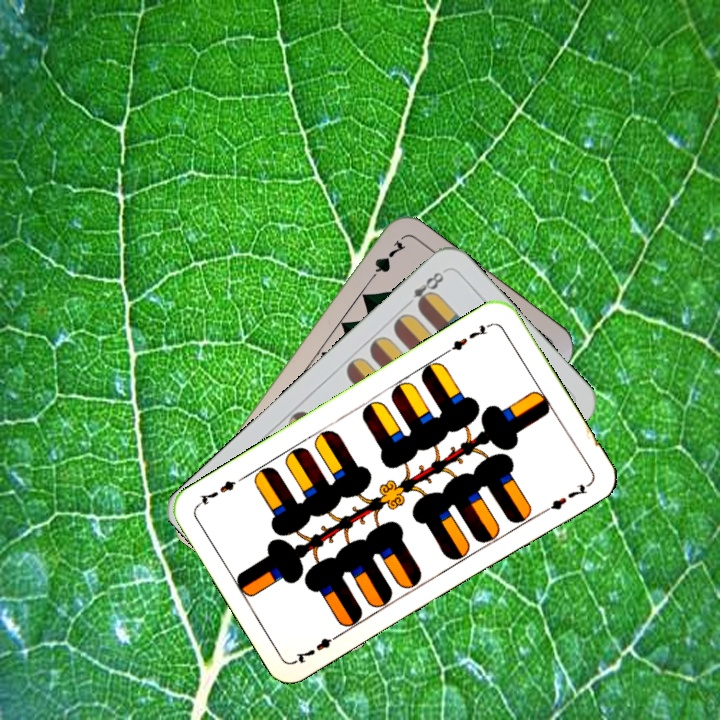E7: (292, 628, 345, 666), (442, 319, 495, 356)
E8: (400, 267, 447, 312)
G7: (363, 236, 409, 287)
